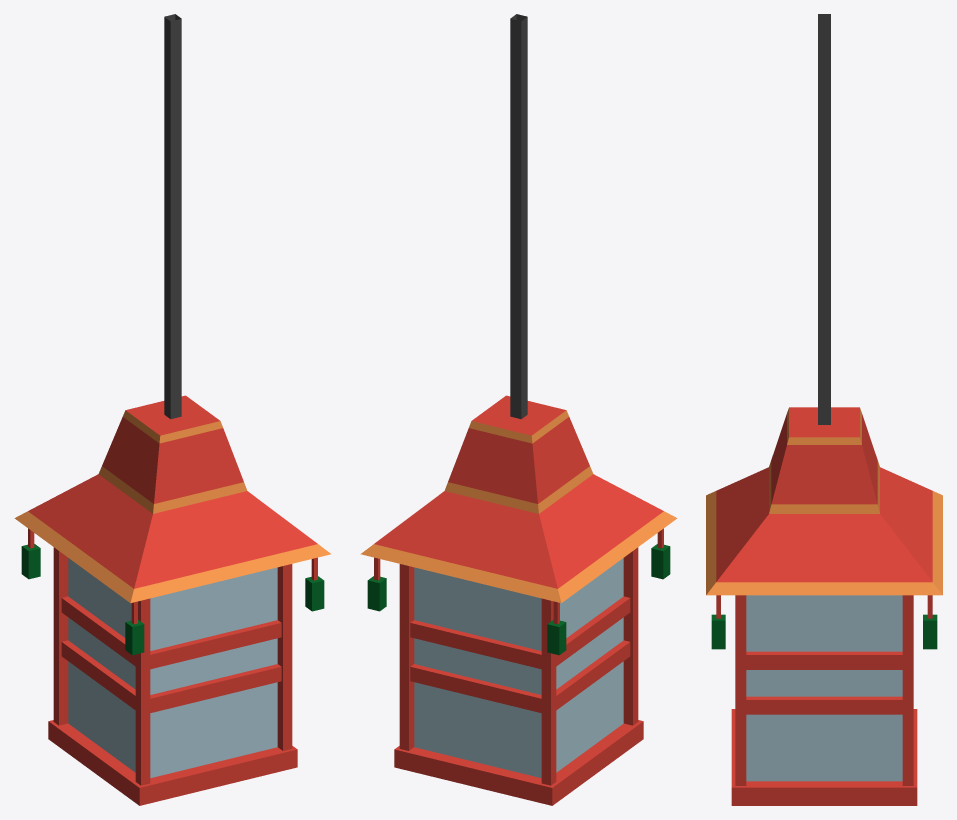
The model's file is Flashlight.fbx.
3 renders of one model, left to right at view 1: azimuth 30°, elevation 25°; view 2: azimuth 150°, elevation 25°; view 3: azimuth 270°, elevation 25°, orthographic.
Visible parts, largest first — view 1: Flashlight; view 2: Flashlight; view 3: Flashlight.
Part boxes in pixels (left/top/right/bottom): Flashlight: left=14, top=14, right=331, bottom=805; Flashlight: left=360, top=14, right=677, bottom=805; Flashlight: left=706, top=14, right=942, bottom=805.
Size of the model in its own units: 14.75 by 14.75 by 51.55.
